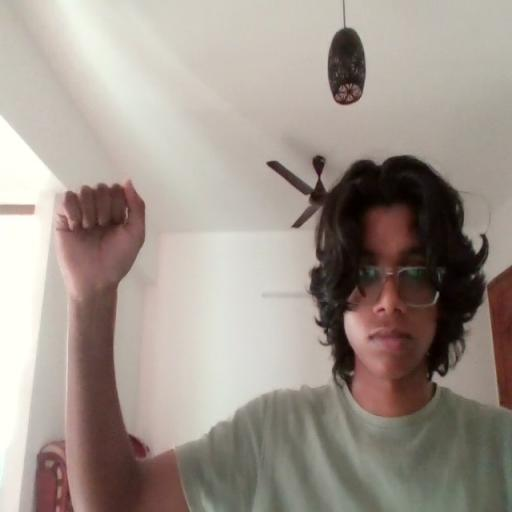Rock: (55, 177, 154, 293)
